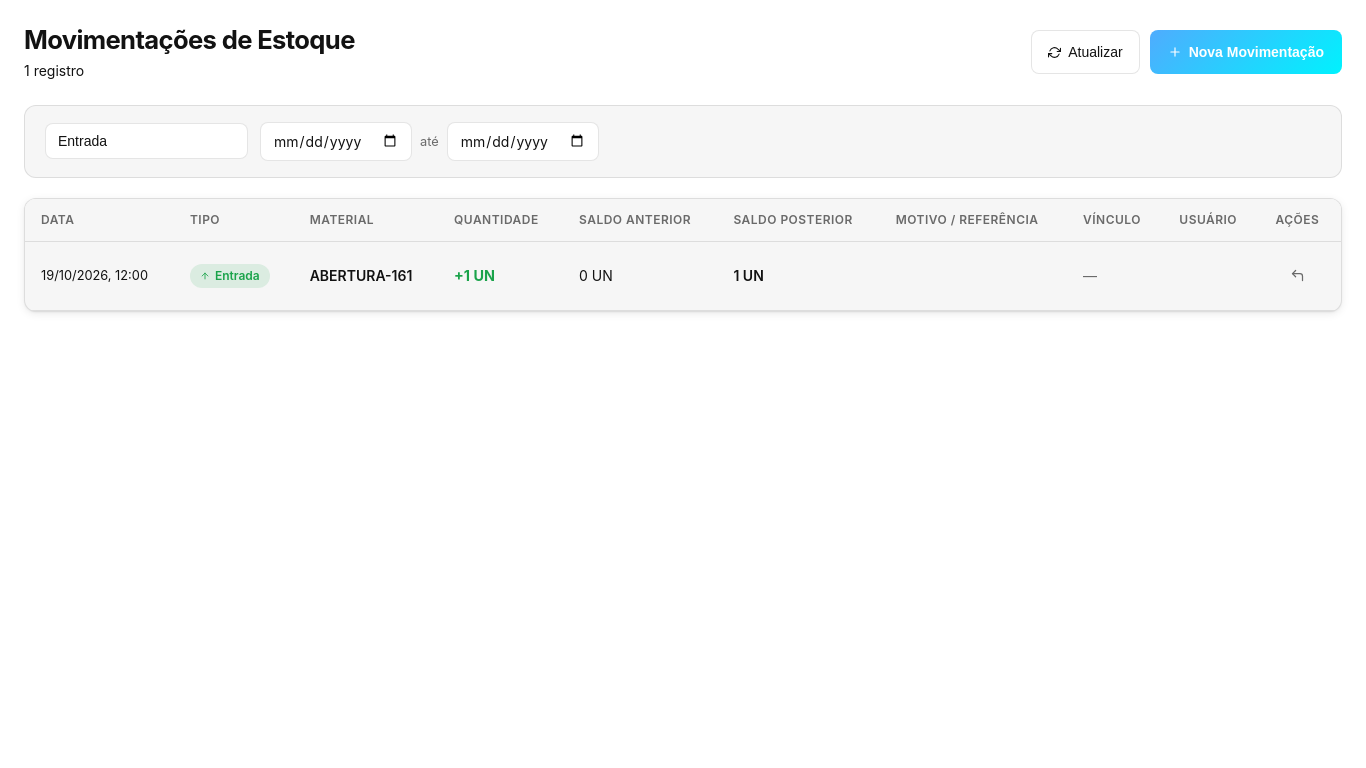
Test: [RN-161.02, C396] Movimentacoes › a resposta lenta do pedido anterior nao troca a lista do ultimo
This screenshot has width=1366, height=768.
Select "Entrada" in the dropdown with class "almox-select". click: x=146, y=142
box: [45,124,248,160]
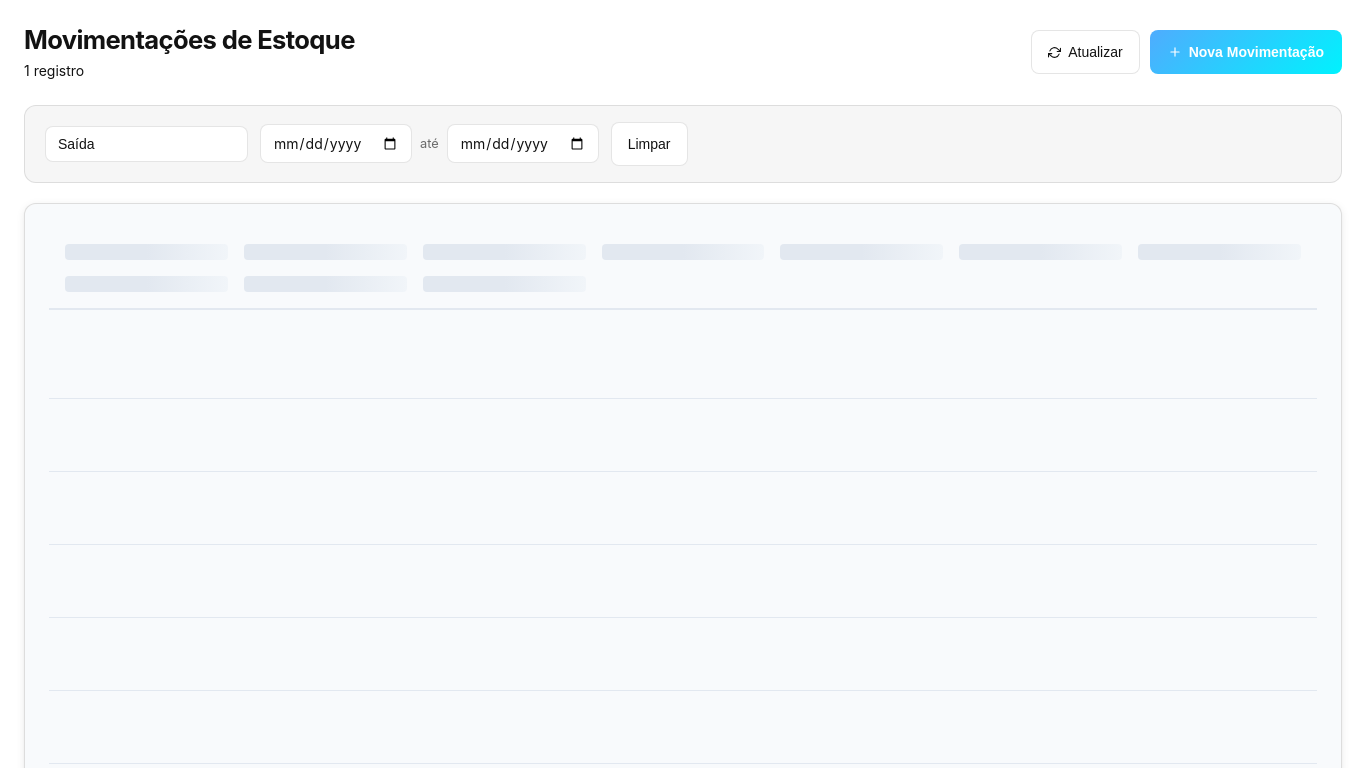
Select "Saída" in the dropdown with class "almox-select". click: x=146, y=144
box: [45,126,248,162]
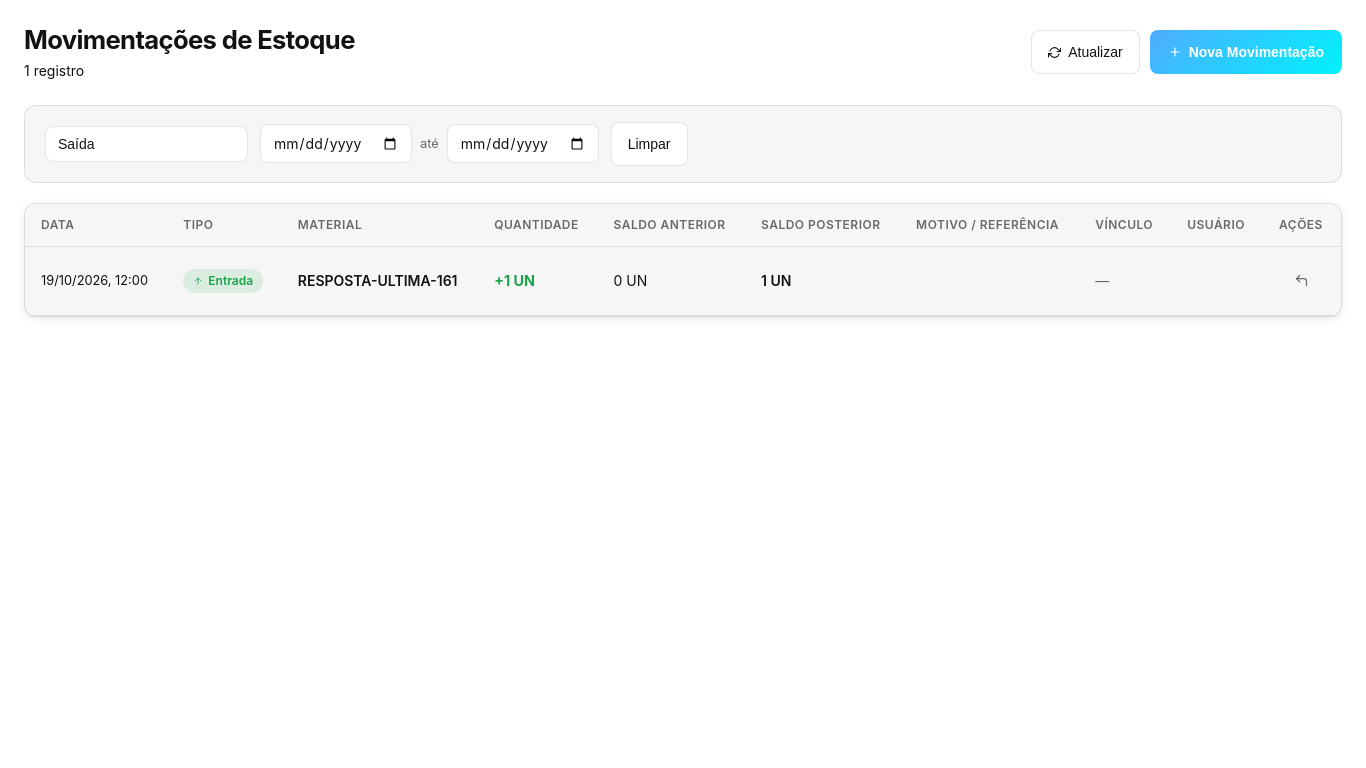
Expected: the text "RESPOSTA-ULTIMA-161" is shown, [298,259,458,303]
